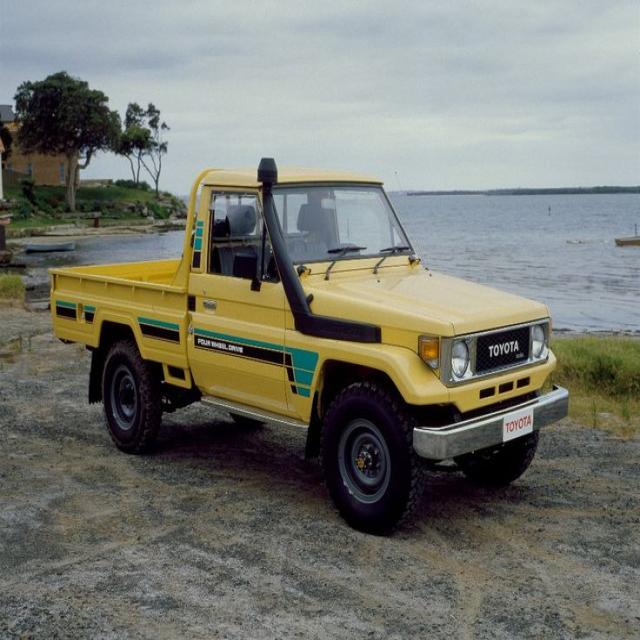light_vehicle: (48, 148, 569, 541)
